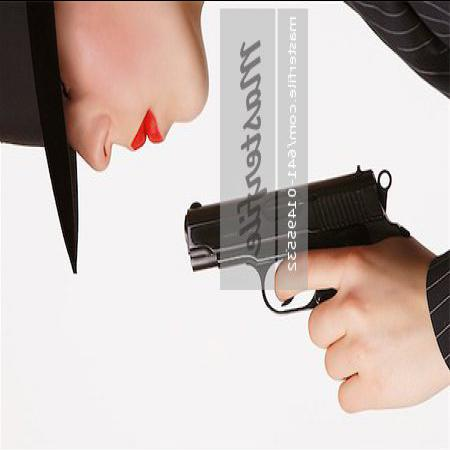Pistol: (184, 148, 408, 342)
